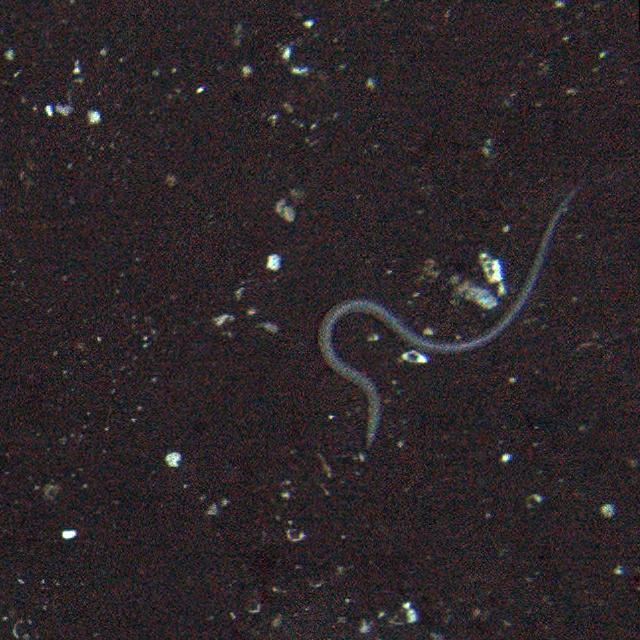eel: (316, 187, 589, 456)
